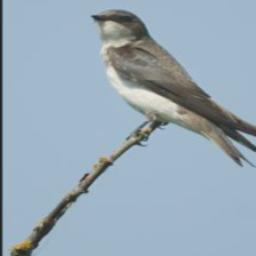Swallow: (89, 8, 256, 168)
